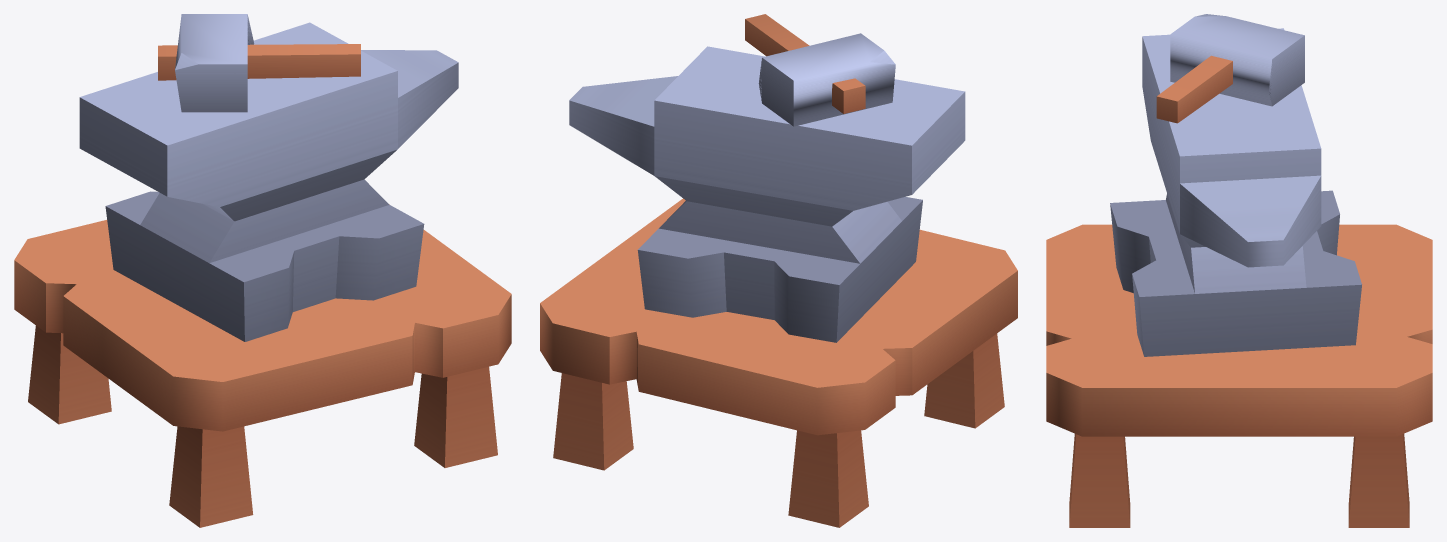
File: cc0-workbench-anvil-lod1.glb
3 views of the same model, side by side, from view 1: azimuth 30°, elevation 25°; view 2: azimuth 150°, elevation 25°; view 3: azimuth 270°, elevation 25° (orthographic). The views are drawn at different scales.
Parts seen in each view (by area): view 1: part_0; view 2: part_0; view 3: part_0.
Boxes of the visible parts, x1,y1,x2,y2 form: part_0: (14,14,511,527); part_0: (540,14,1017,527); part_0: (1046,14,1432,527).
Bounding box in the file's own units: 0.3227 × 0.3358 × 0.2957.
1 material, 1 textured.
